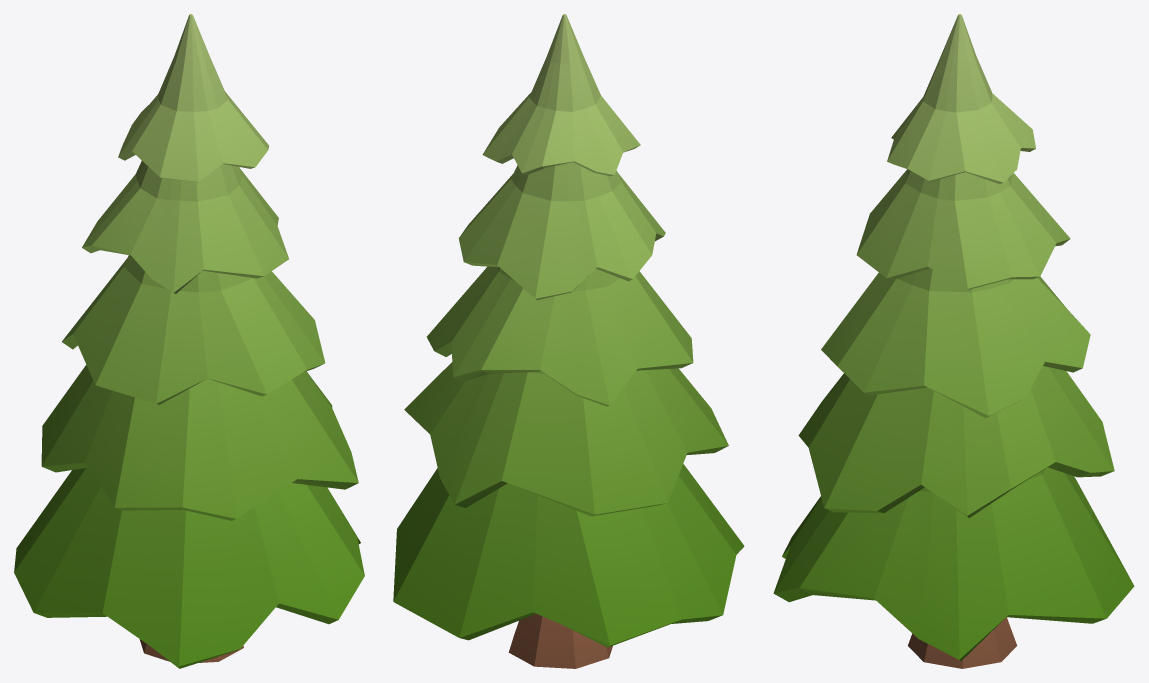
The model's file is fir-tree-large.glb.
The picture shows the model from 3 angles, left to right: view 1: azimuth 30°, elevation 25°; view 2: azimuth 150°, elevation 25°; view 3: azimuth 270°, elevation 25°; orthographic projection.
Parts seen in each view (by area): view 1: fir_tree_large; view 2: fir_tree_large; view 3: fir_tree_large.
Part boxes in pixels (left/top/right/bottom): fir_tree_large: left=14, top=14, right=364, bottom=668; fir_tree_large: left=393, top=14, right=744, bottom=668; fir_tree_large: left=773, top=14, right=1134, bottom=668.
Size of the model in its own units: 4.47 by 8.3 by 4.31.
1 material, 1 textured.
